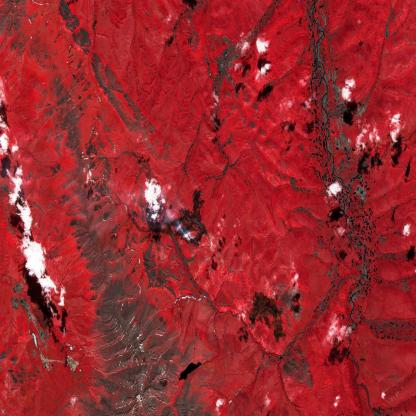fire: (170, 202, 210, 251)
